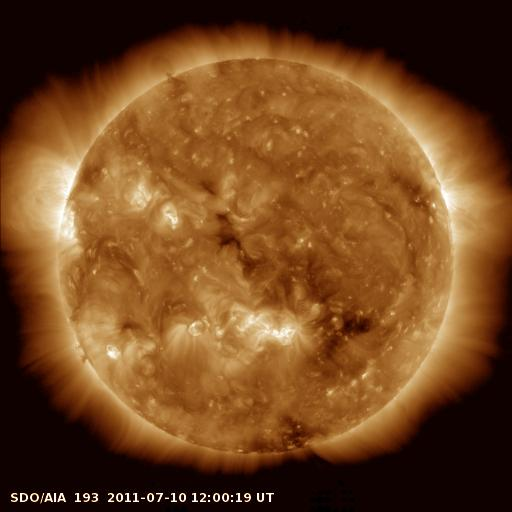coronal_hole: (242, 422, 325, 456), (339, 309, 379, 343)
